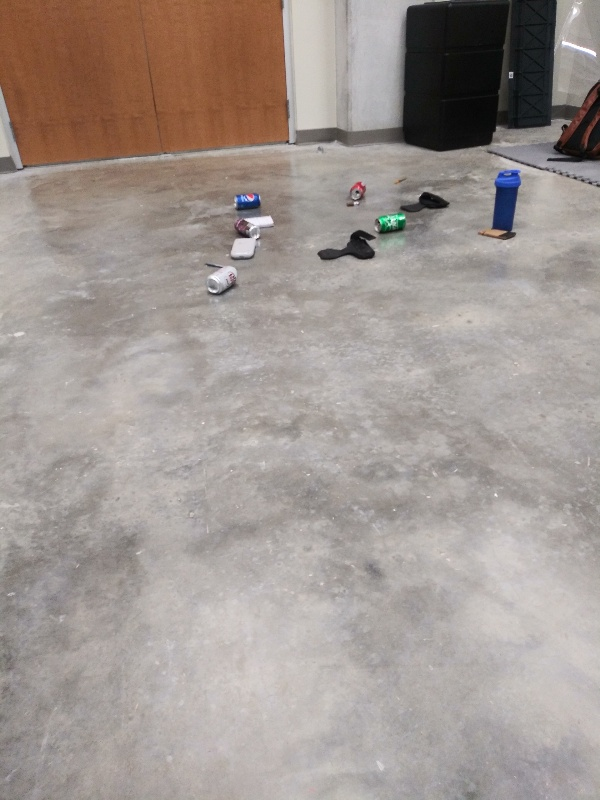can: (205, 264, 243, 293), (370, 212, 410, 234), (229, 189, 265, 211), (231, 216, 263, 238), (346, 178, 367, 201)
